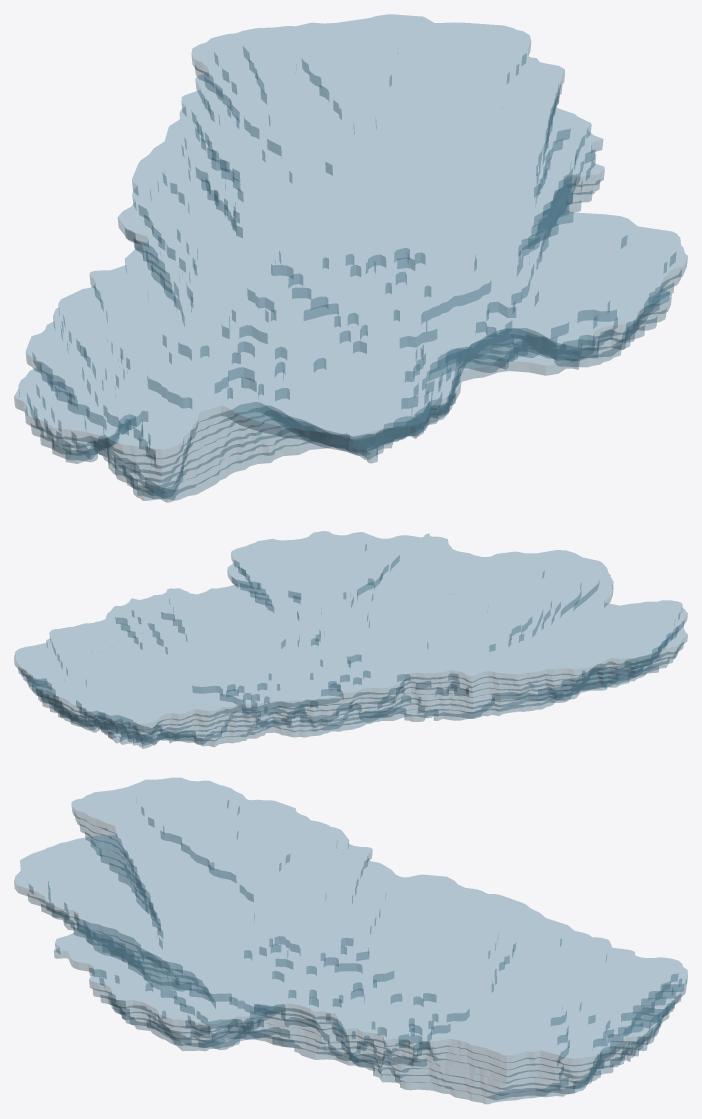
3 renders of one model, top to bottom at view 1: azimuth 30°, elevation 25°; view 2: azimuth 150°, elevation 25°; view 3: azimuth 270°, elevation 25°, orthographic. The views are drawn at different scales.
Parts seen in each view (by area): view 1: water_0; view 2: water_0; view 3: water_0.
Part boxes in pixels (x1,y1,x2,y2): water_0: (14, 14, 687, 502); water_0: (14, 531, 687, 748); water_0: (14, 778, 687, 1103).
Bounding box in the file's own units: 85.17 × 10.16 × 86.28.
Materials: 1 (1 with a texture image).
